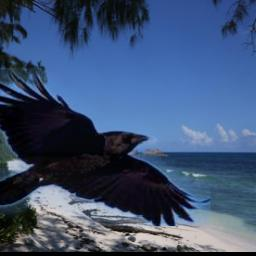Crow: (0, 69, 210, 227)
